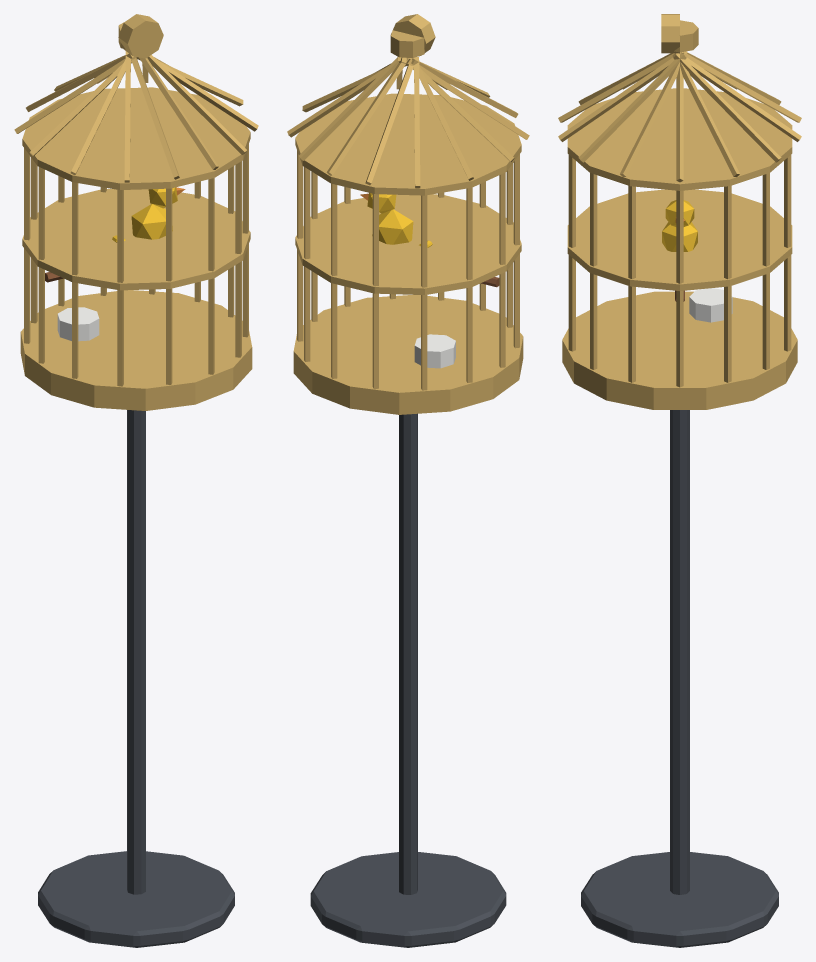
File: bird_cage.glb
The picture shows the model from 3 angles, left to right: view 1: azimuth 30°, elevation 25°; view 2: azimuth 150°, elevation 25°; view 3: azimuth 270°, elevation 25°; orthographic projection.
Parts seen in each view (by area): view 1: bird_cage_Body; view 2: bird_cage_Body; view 3: bird_cage_Body.
Boxes of the visible parts, <box> form: bird_cage_Body: <box>14,14,258,947</box>; bird_cage_Body: <box>287,14,529,947</box>; bird_cage_Body: <box>558,14,801,947</box>.
Size of the model in its own units: 0.4 by 1.6 by 0.396.
